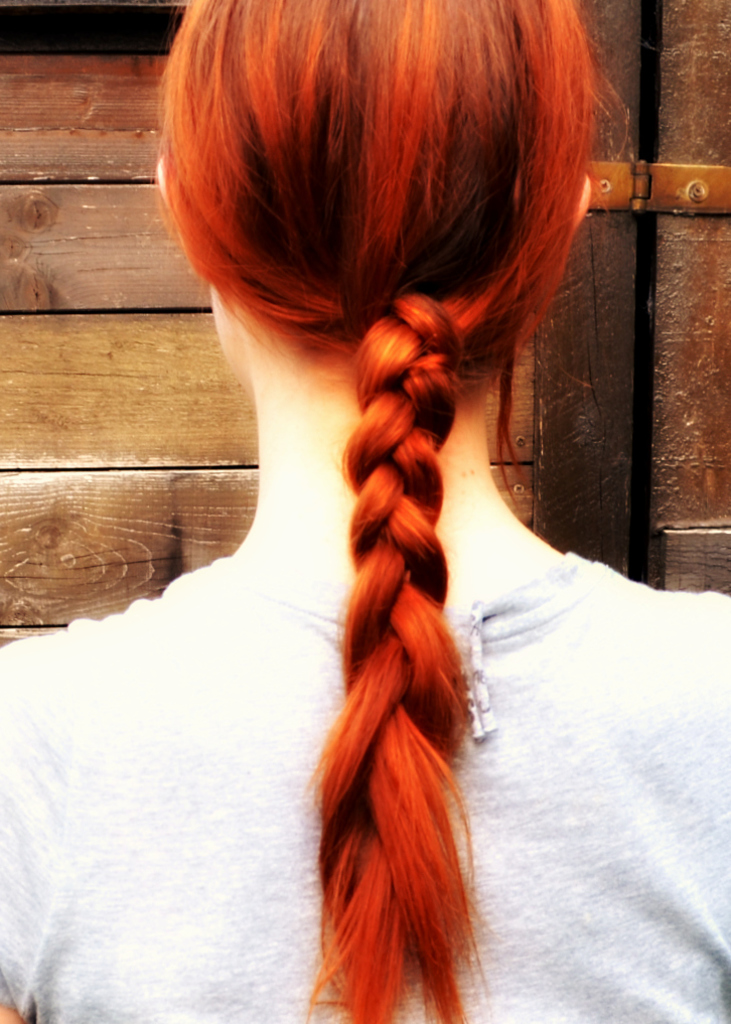Person: (0, 0, 730, 1024)
